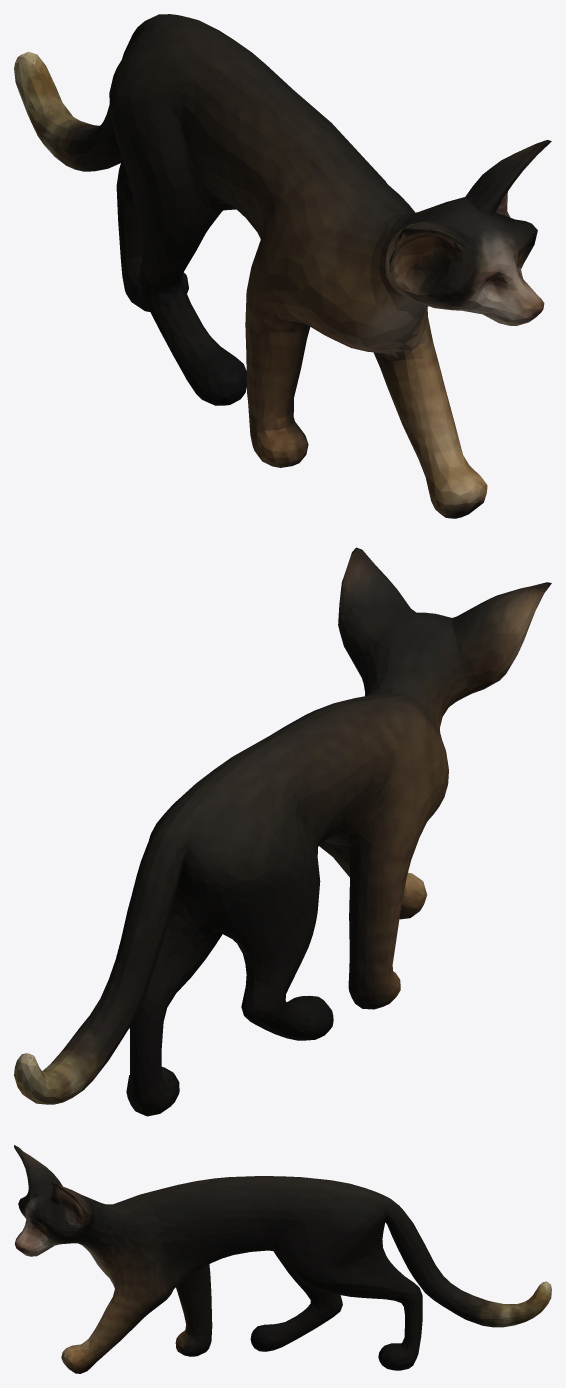
3 views of the same model, one above another, from view 1: azimuth 30°, elevation 25°; view 2: azimuth 150°, elevation 25°; view 3: azimuth 270°, elevation 25° (orthographic). The views are drawn at different scales.
Visible parts, largest first — view 1: geometry_0; view 2: geometry_0; view 3: geometry_0.
Boxes of the visible parts, left/top/right/bottom form: geometry_0: left=14, top=14, right=551, bottom=518; geometry_0: left=14, top=547, right=551, bottom=1116; geometry_0: left=14, top=1145, right=551, bottom=1373.
Size of the model in its own units: 0.2179 by 0.4328 by 0.9999.
Materials: 1 (1 with a texture image).
